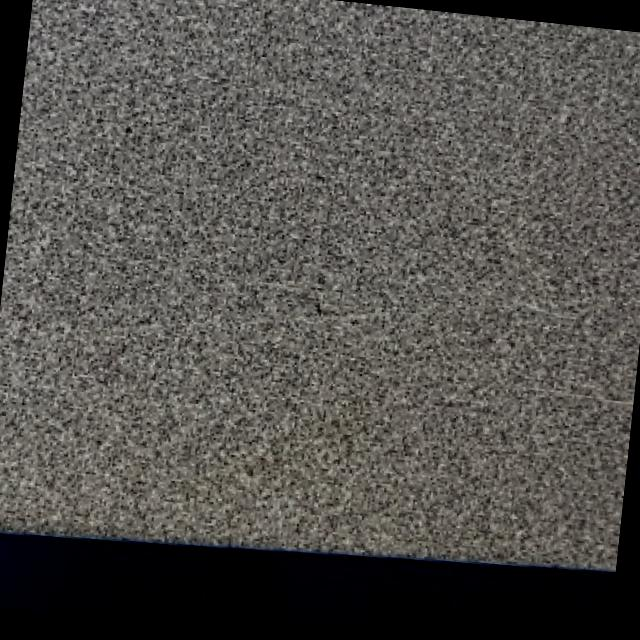healthy: (390, 572, 517, 640), (518, 585, 606, 640)
